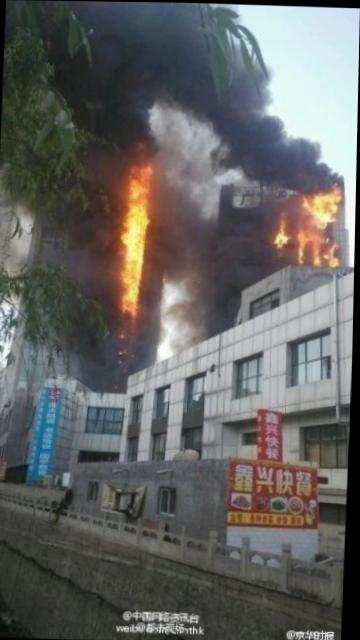fire: (117, 163, 148, 314), (299, 186, 336, 222), (274, 222, 290, 249), (311, 223, 320, 261), (326, 240, 339, 266), (296, 222, 303, 257), (298, 231, 319, 241)
